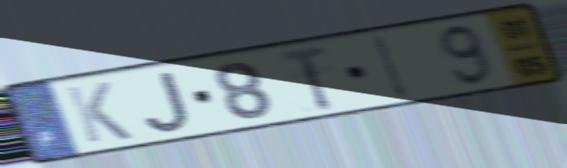8: (213, 60, 275, 120)
9: (434, 21, 498, 87)
I: (370, 32, 412, 101)
J: (141, 68, 195, 134)
K: (61, 80, 137, 146)
T: (275, 41, 336, 114)
